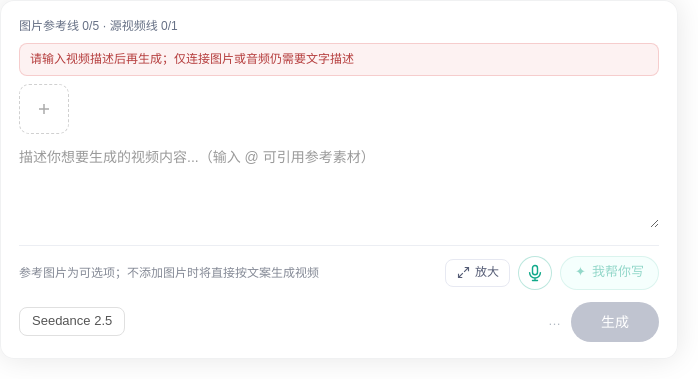
Test case: CanvasNodePanel unified real-person material entry › 按当前模型显示真人库入口：Seedance 2.5
Click the button titled "添加参考": x=44, y=109 [19,84,69,134]
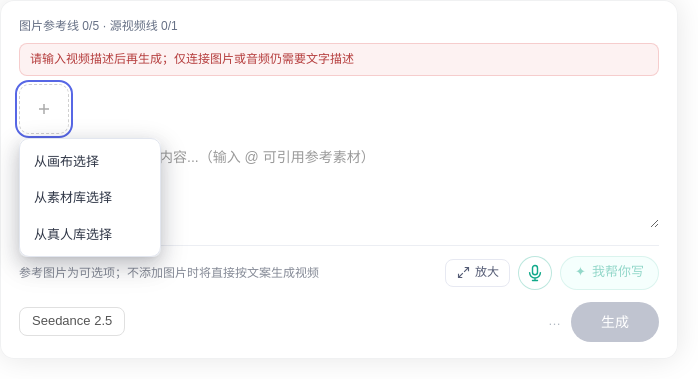
Click the menu item "从真人库选择": x=90, y=234 [24,216,156,252]
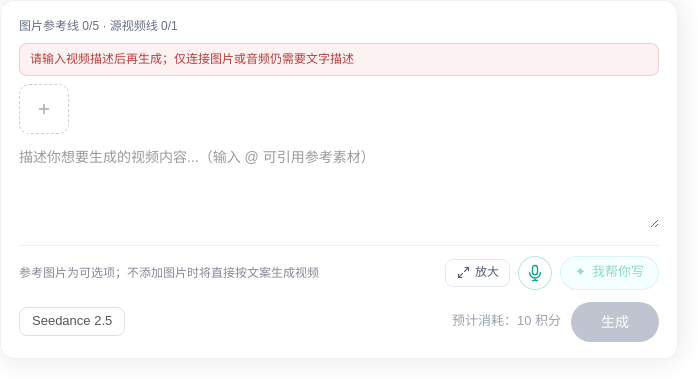
Expected: the menu is gone
